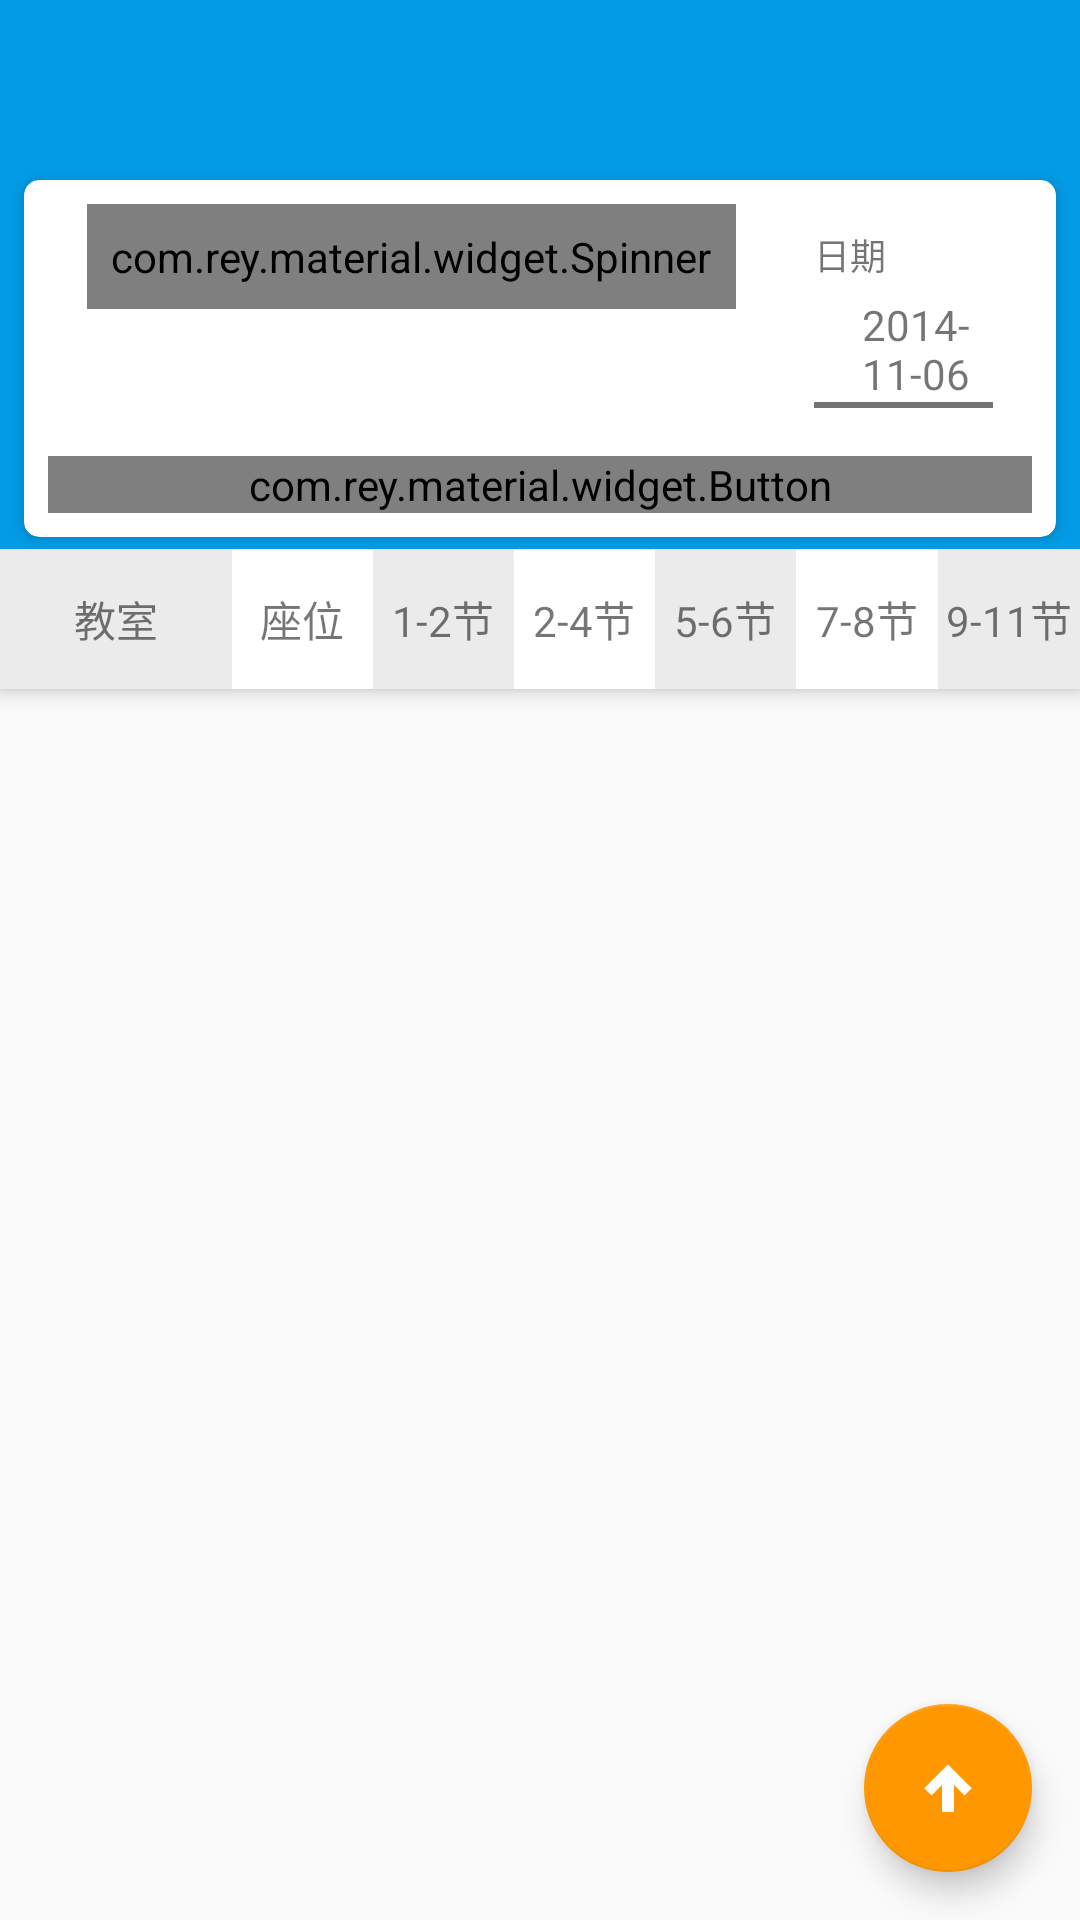

Point at icon controls on the screen. Image size 1080 × 1920, points as point (x, y).
arrow up: point (948, 1788)
